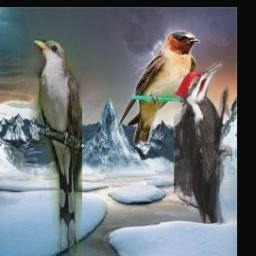Cuckoo: (33, 40, 81, 256)
Swallow: (117, 30, 200, 143)
Woodpecker: (174, 61, 232, 223)
